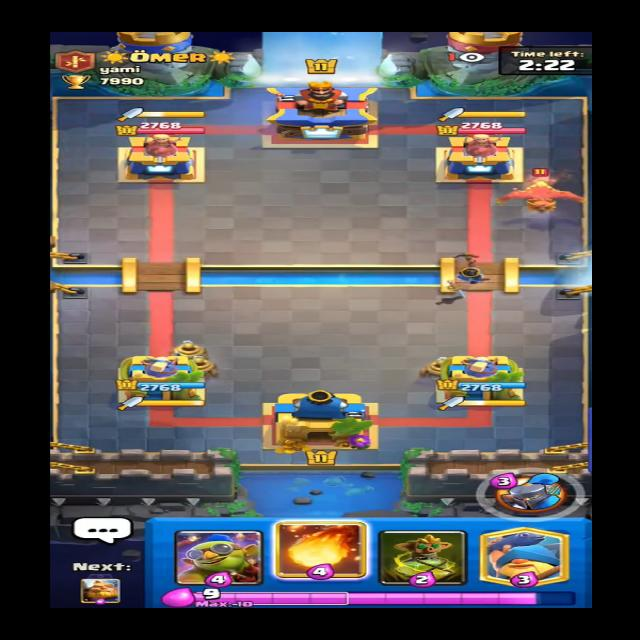phoenix: (487, 170, 592, 216)
